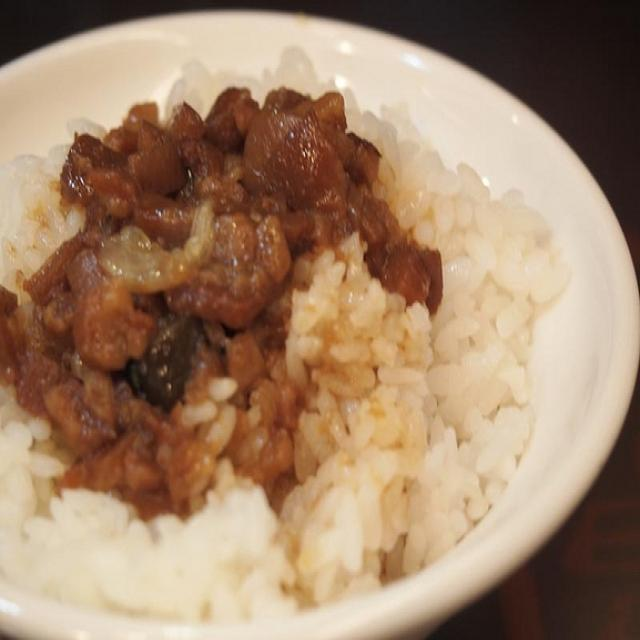猪肉菜式: (20, 77, 526, 604)
